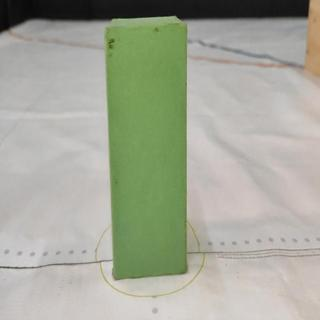greenbox: (104, 16, 192, 278)
